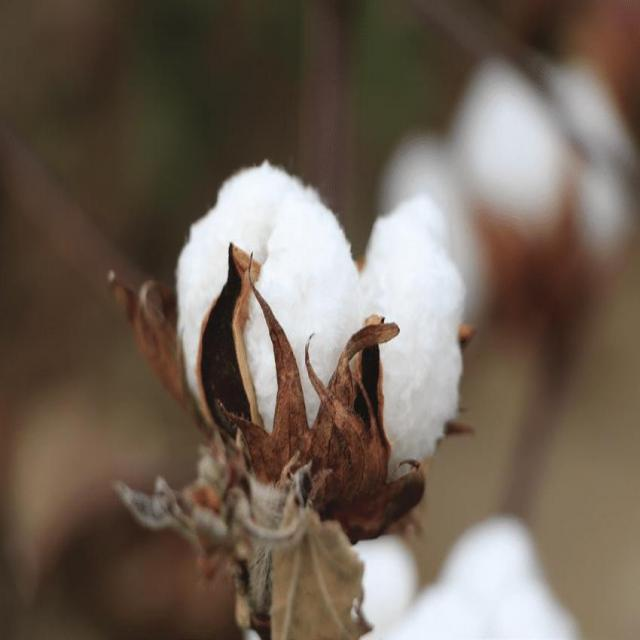Late_blight: (169, 158, 461, 534)
